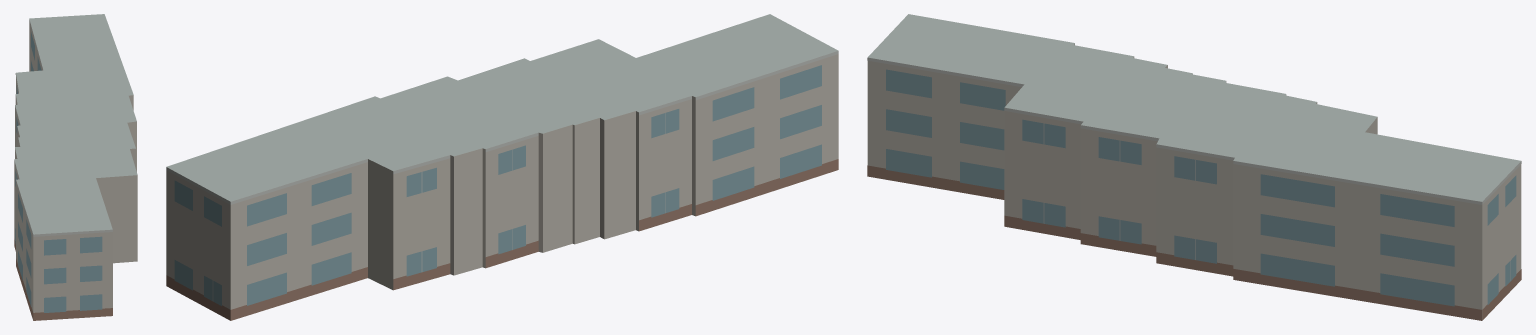
File: survey-upis-32870913.glb
3 renders of one model, left to right at view 1: azimuth 30°, elevation 25°; view 2: azimuth 150°, elevation 25°; view 3: azimuth 270°, elevation 25°, orthographic. The views are drawn at different scales.
Visible parts, largest first — view 1: survey-upis-32870913.tmp; view 2: survey-upis-32870913.tmp; view 3: survey-upis-32870913.tmp.
Boxes of the visible parts, bbox=[...] form: survey-upis-32870913.tmp: bbox=[14, 14, 137, 320]; survey-upis-32870913.tmp: bbox=[166, 14, 838, 320]; survey-upis-32870913.tmp: bbox=[867, 14, 1521, 320].
Bounding box in the file's own units: 30.99 × 9.15 × 45.57.
